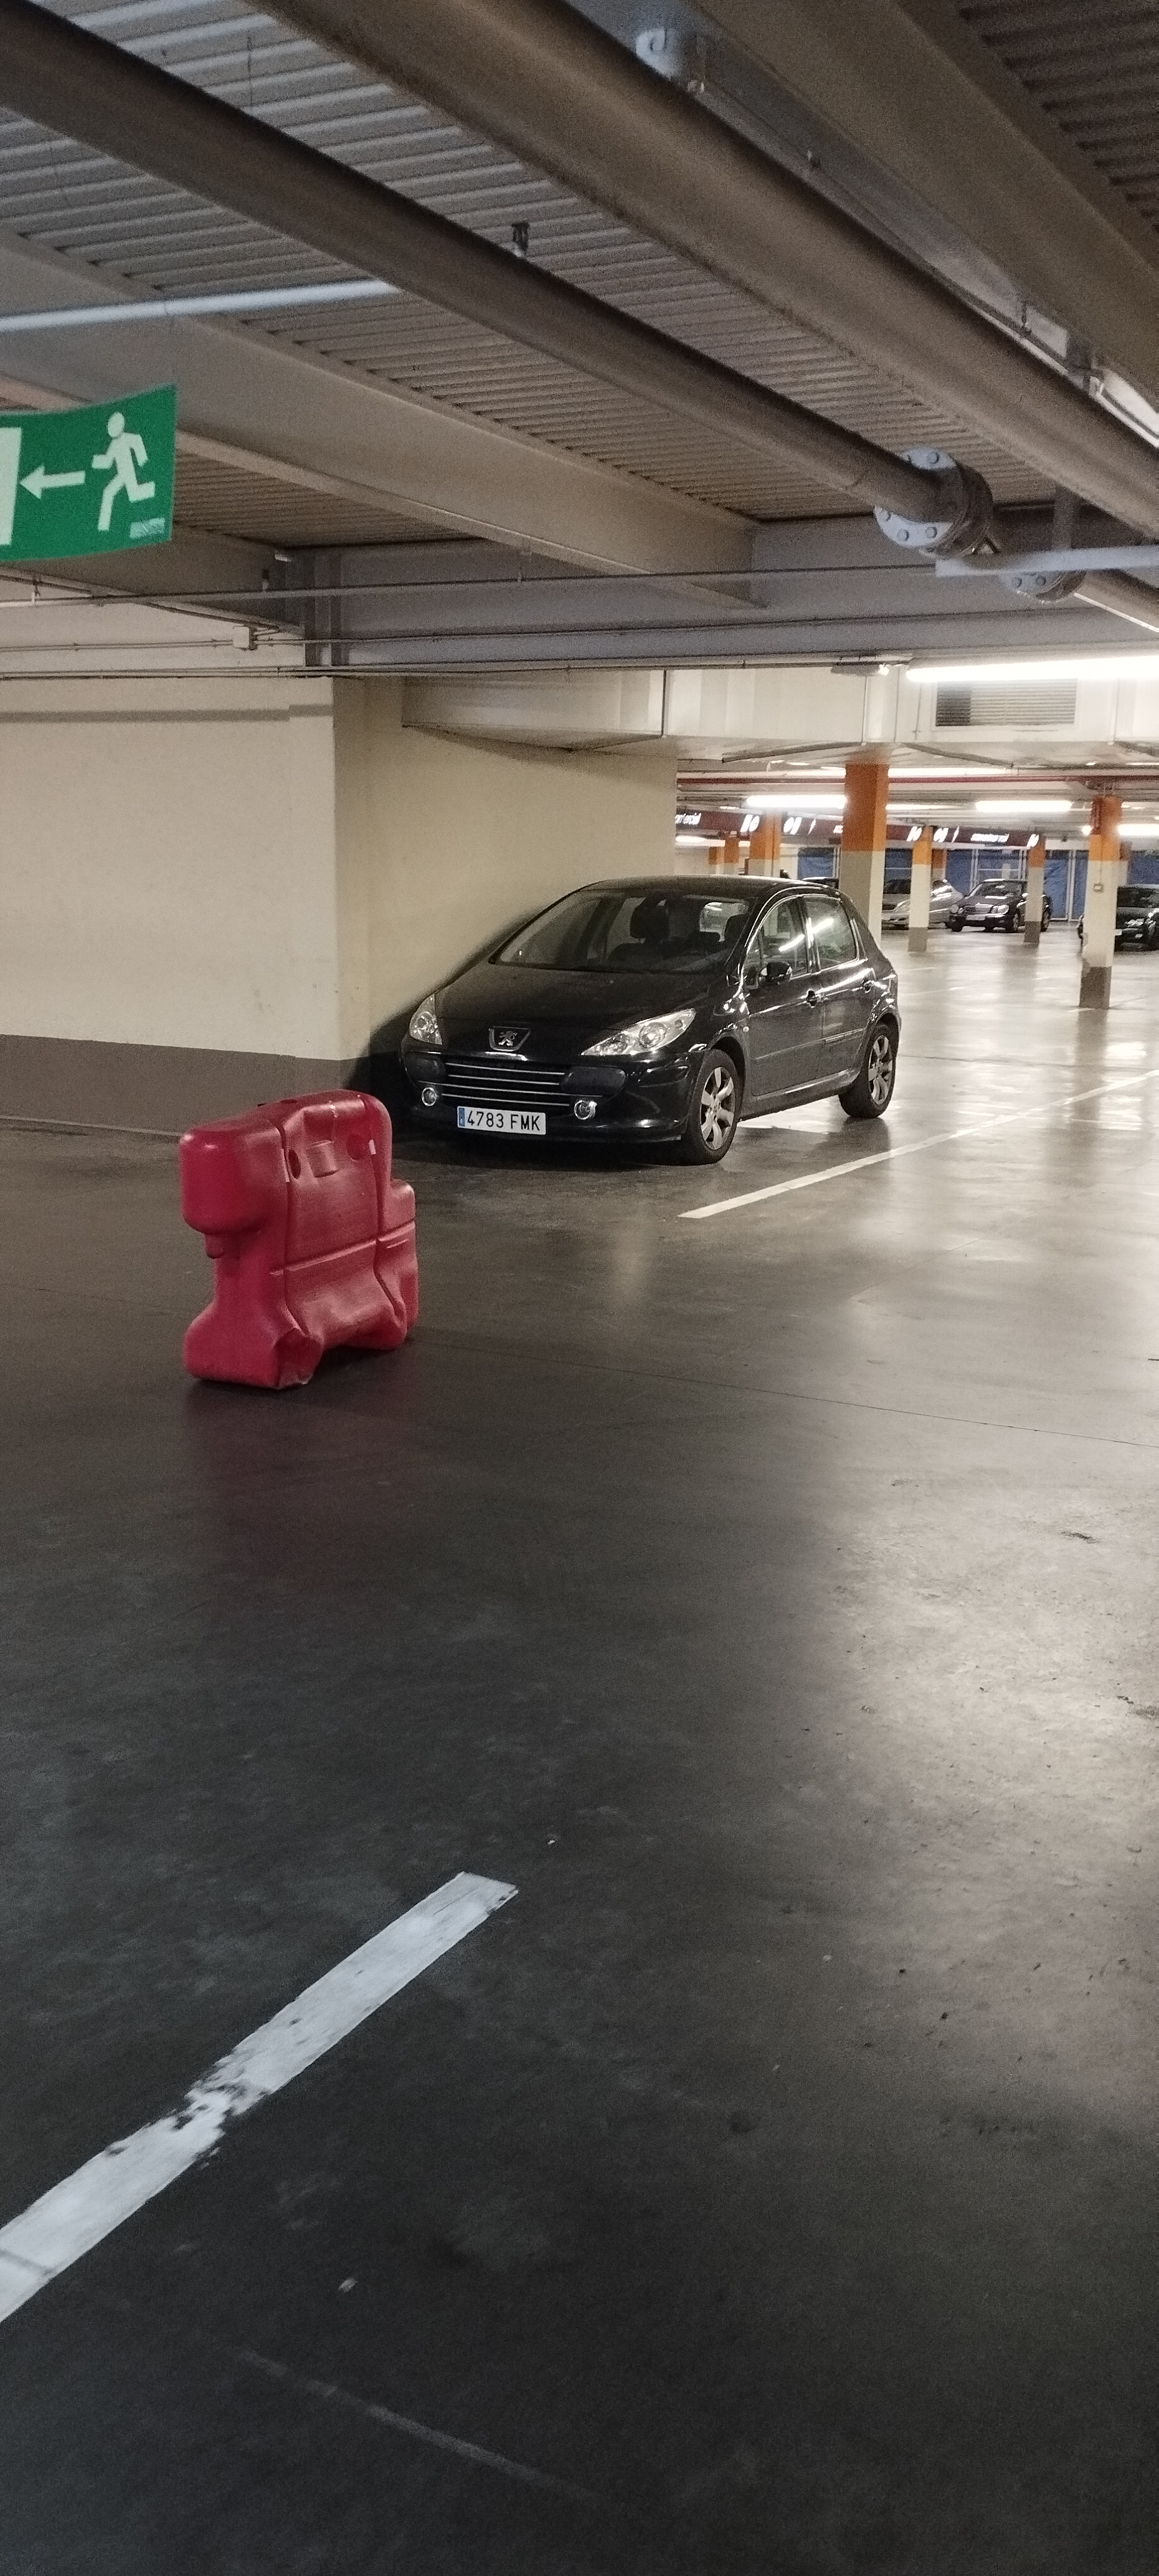Car: (392, 872, 896, 1161)
Plate: (458, 1106, 545, 1127)
